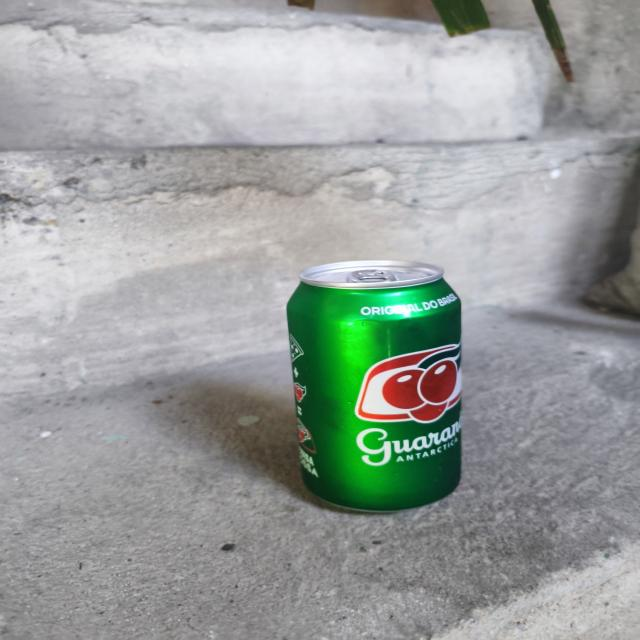Guarana: (277, 254, 482, 522)
